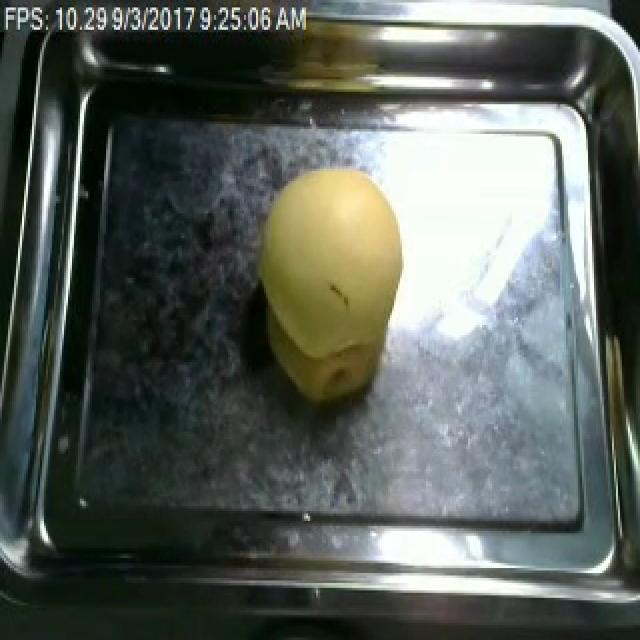Fruit: (246, 151, 416, 412)
